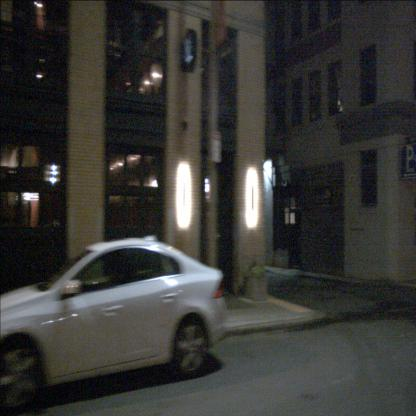vehicle-car: (0, 238, 228, 415)
